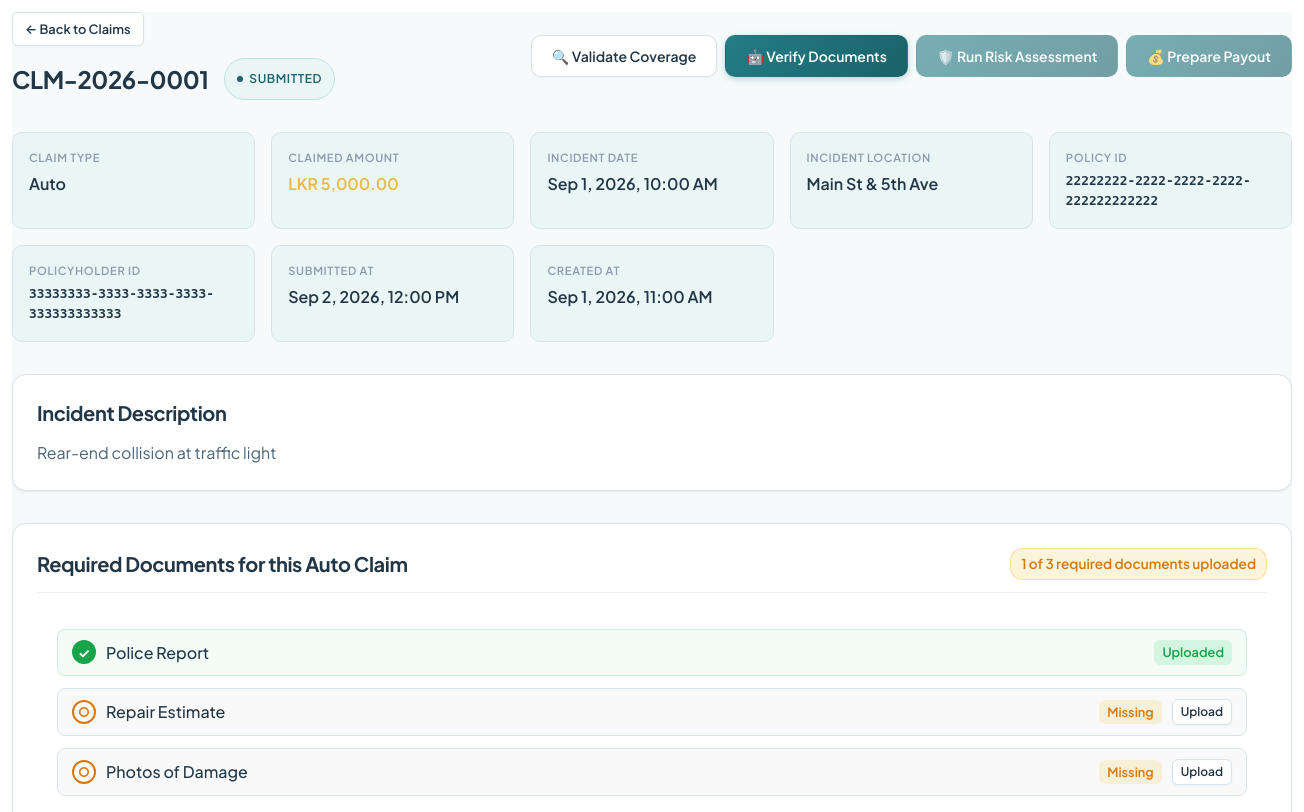
it: ClaimDetails Component Tests › 3. displays inconsistencies with field, description, and severity badges
This screenshot has width=1304, height=812.
expect the heading "CLM-2026-0001 Submitted" is shown: met, box 12,58 -> 335,100
Click the button "🤖 Verify Documents".
click(817, 56)  # box 725,35 -> 908,77
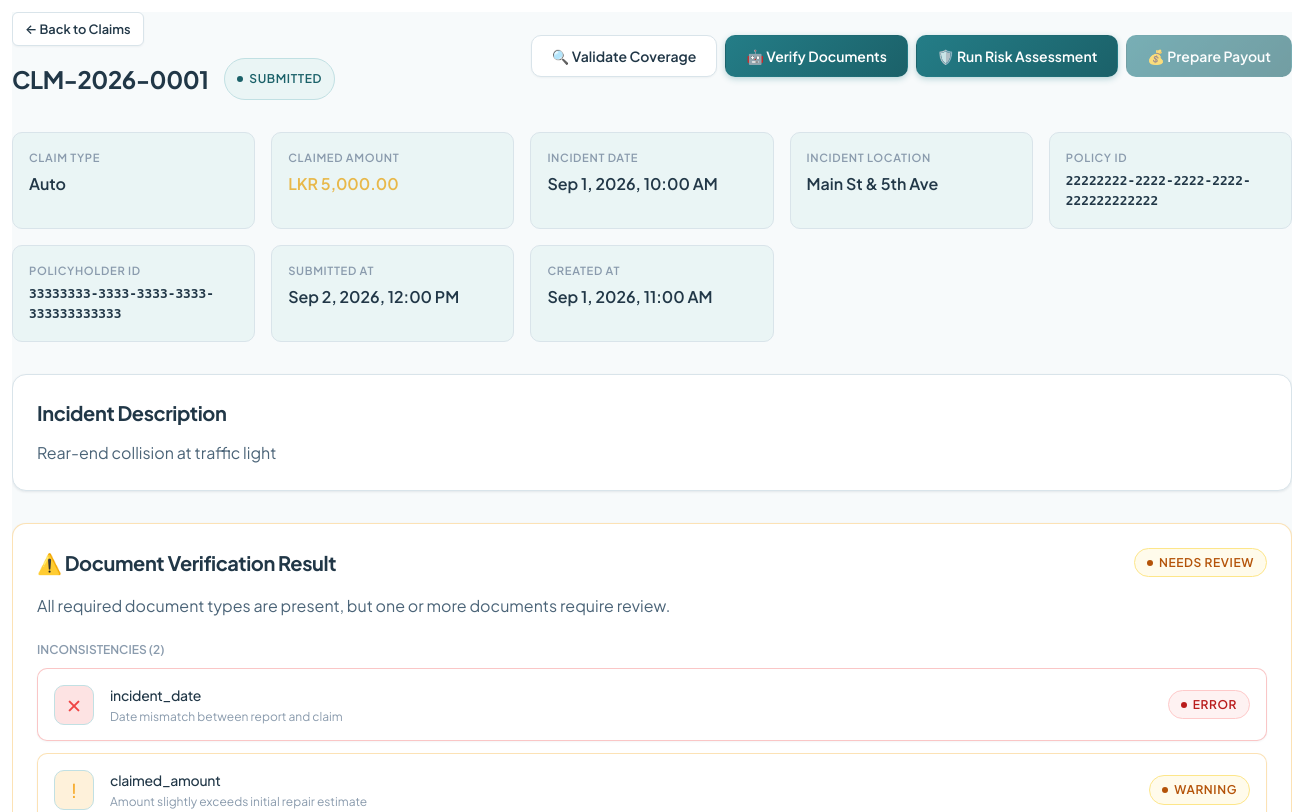
expect the text "Inconsistencies (2)" is shown: met, box 37,642 -> 164,657
expect the heading "incident_date" is shown: met, box 110,686 -> 201,704
expect the text "Date mismatch between report and claim" is shown: met, box 110,709 -> 343,724
